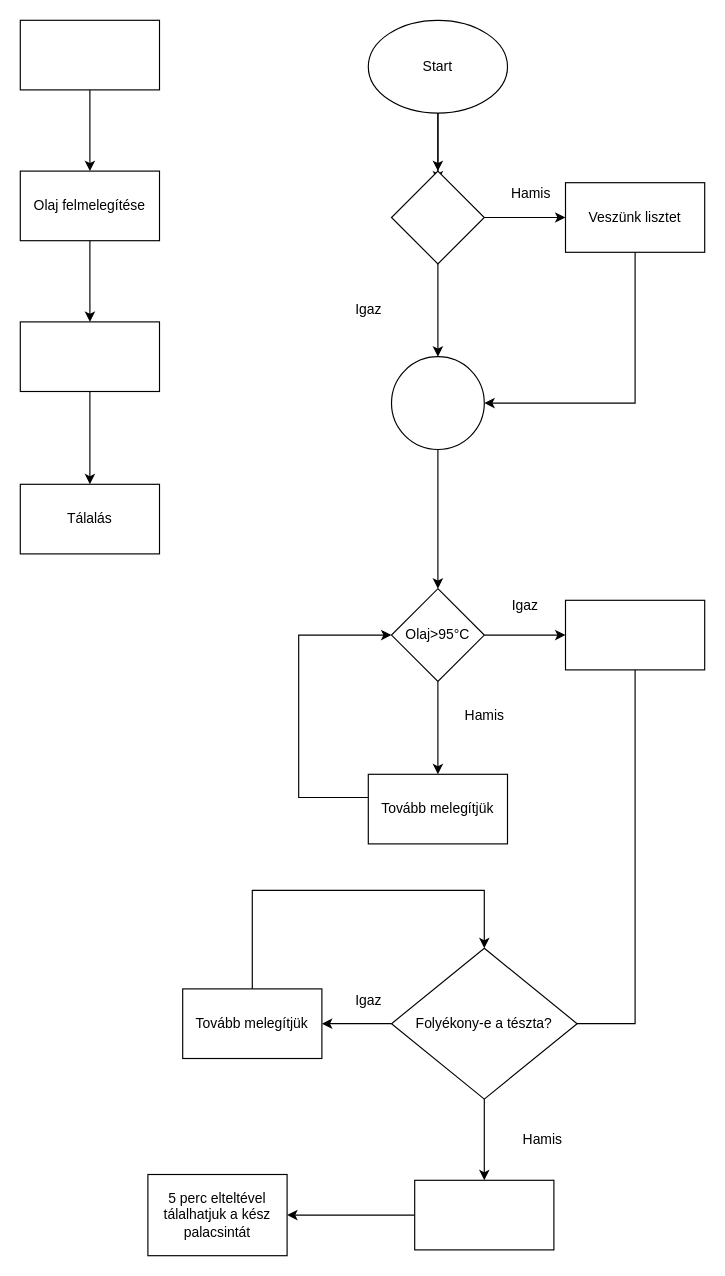
The diagram is 725 pixels wide and 1276 high, and some of its shapes have lost their labels. Here are the shapes that lost their labels. From the top down, the centre of each, then its label:
point 89,54: Liszt, tej, tojás kikeverése
point 437,217: Van-e liszt?
point 89,356: egy adag kisütése
point 634,634: Beleteszünk egy adag tésztát
point 484,1214: Átfordítjuk a másik oldalra
